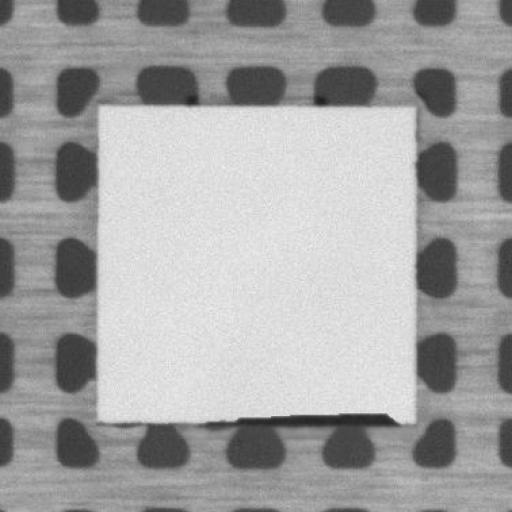DIE_BROKEN: (196, 404, 404, 425)
